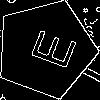E: (20, 24, 77, 72)
